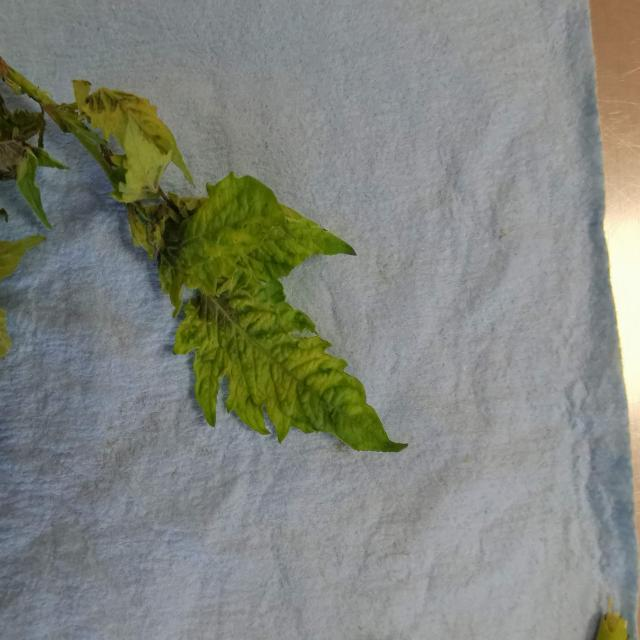T_L_H: (121, 122, 172, 203)
T_L_R: (175, 284, 407, 453), (74, 81, 195, 184), (182, 173, 284, 294), (241, 206, 355, 281)
